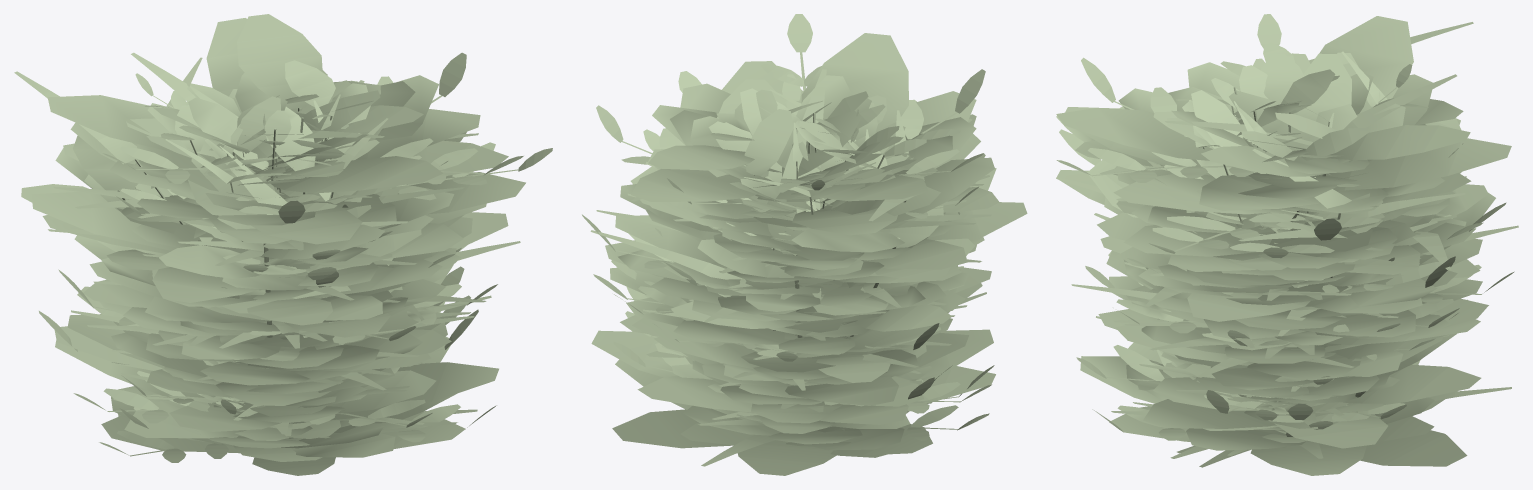
File: herb_clump.glb
The picture shows the model from 3 angles, left to right: view 1: azimuth 30°, elevation 25°; view 2: azimuth 150°, elevation 25°; view 3: azimuth 270°, elevation 25°; orthographic projection. The views are drawn at different scales.
Visible parts, largest first — view 1: v6_foliage, v16_foliage, v2_foliage, v22_foliage, v23_foliage, v12_foliage, v10_foliage, v13_foliage, v7_foliage, v3_foliage, v8_foliage, v4_foliage (+8 smaller); view 2: v6_foliage, v16_foliage, v2_foliage, v13_foliage, v7_foliage, v23_foliage, v12_foliage, v10_foliage, v22_foliage, v3_foliage, v14_foliage, v17_foliage (+7 smaller); view 3: v6_foliage, v16_foliage, v2_foliage, v22_foliage, v12_foliage, v10_foliage, v13_foliage, v23_foliage, v3_foliage, v7_foliage, v8_foliage, v15_foliage (+7 smaller).
Boxes of the visible parts, x1,y1,x2,y2 form: v6_foliage: (42,18,508,449); v16_foliage: (31,95,525,461); v2_foliage: (21,14,423,475); v22_foliage: (14,71,520,434); v23_foliage: (48,52,491,438); v12_foliage: (99,132,496,462); v10_foliage: (73,117,552,423); v13_foliage: (39,52,478,437); v7_foliage: (126,73,380,429); v3_foliage: (169,60,399,403); v8_foliage: (147,103,381,440); v4_foliage: (123,97,317,407); v6_foliage: (610,33,1027,475); v16_foliage: (591,91,993,455); v2_foliage: (648,79,999,457); v13_foliage: (582,69,994,406); v7_foliage: (708,88,909,427); v23_foliage: (627,69,989,466); v12_foliage: (593,74,989,440); v10_foliage: (611,14,991,413); v22_foliage: (590,139,991,419); v3_foliage: (711,89,903,211); v14_foliage: (703,109,865,404); v17_foliage: (708,121,882,421); v6_foliage: (1056,62,1511,475); v16_foliage: (1065,16,1495,466); v2_foliage: (1057,99,1488,441); v22_foliage: (1056,22,1518,467); v12_foliage: (1056,14,1514,440); v10_foliage: (1056,110,1483,421); v13_foliage: (1081,57,1506,419); v23_foliage: (1094,74,1511,458); v3_foliage: (1153,53,1368,403); v7_foliage: (1182,63,1420,442); v8_foliage: (1167,73,1384,430); v15_foliage: (1191,53,1357,221).
Bounding box in the file's own units: 1.28 × 1 × 1.26.
